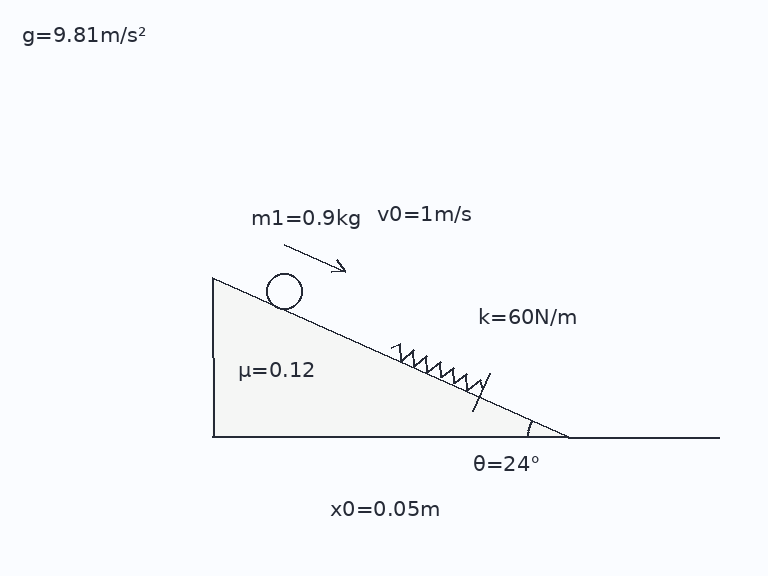ball: (264, 271, 304, 311)
ramp: (211, 277, 570, 439)
spring: (388, 343, 485, 392)
